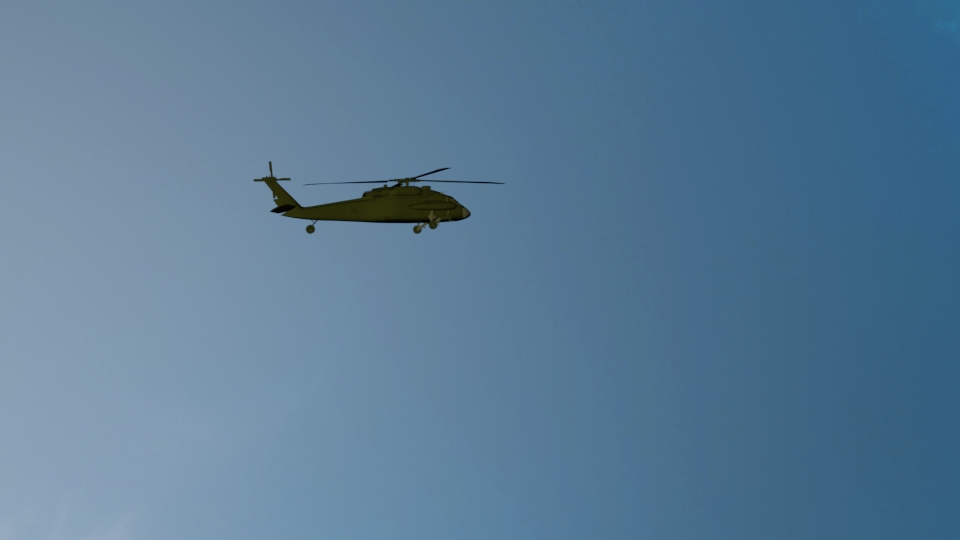heli: (255, 166, 471, 233)
